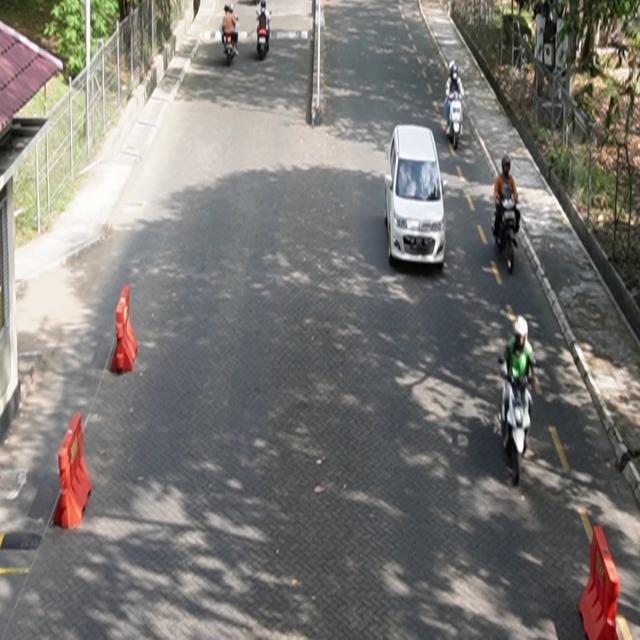car: (385, 125, 447, 269)
